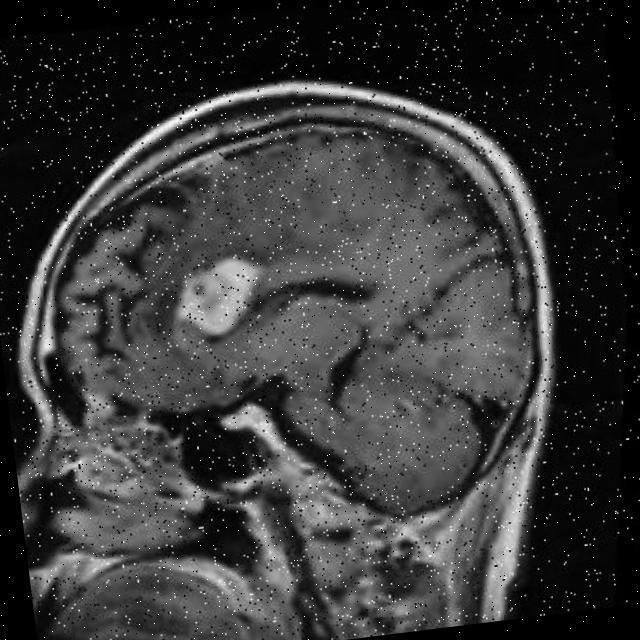LMCI: (109, 220, 316, 366)
